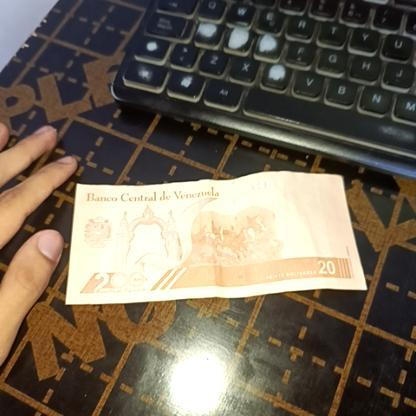vef_back: (65, 169, 367, 305)
